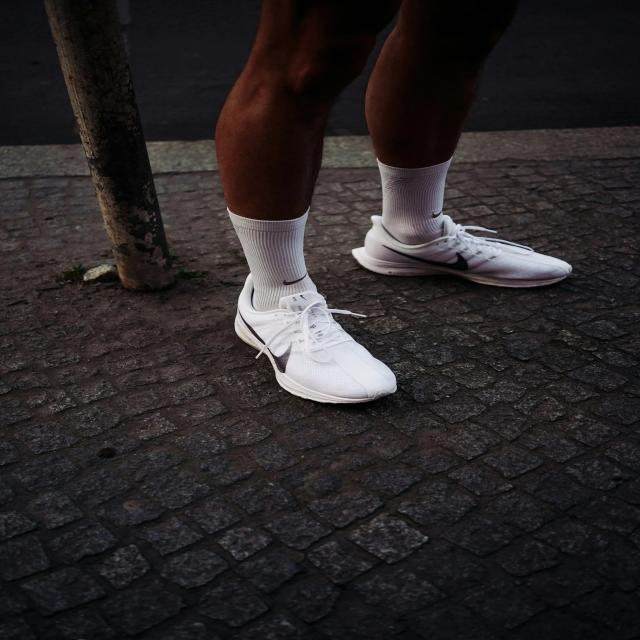nike logo: (228, 296, 306, 376), (368, 237, 492, 270)
sock logo: (237, 219, 324, 292), (380, 168, 448, 225)
